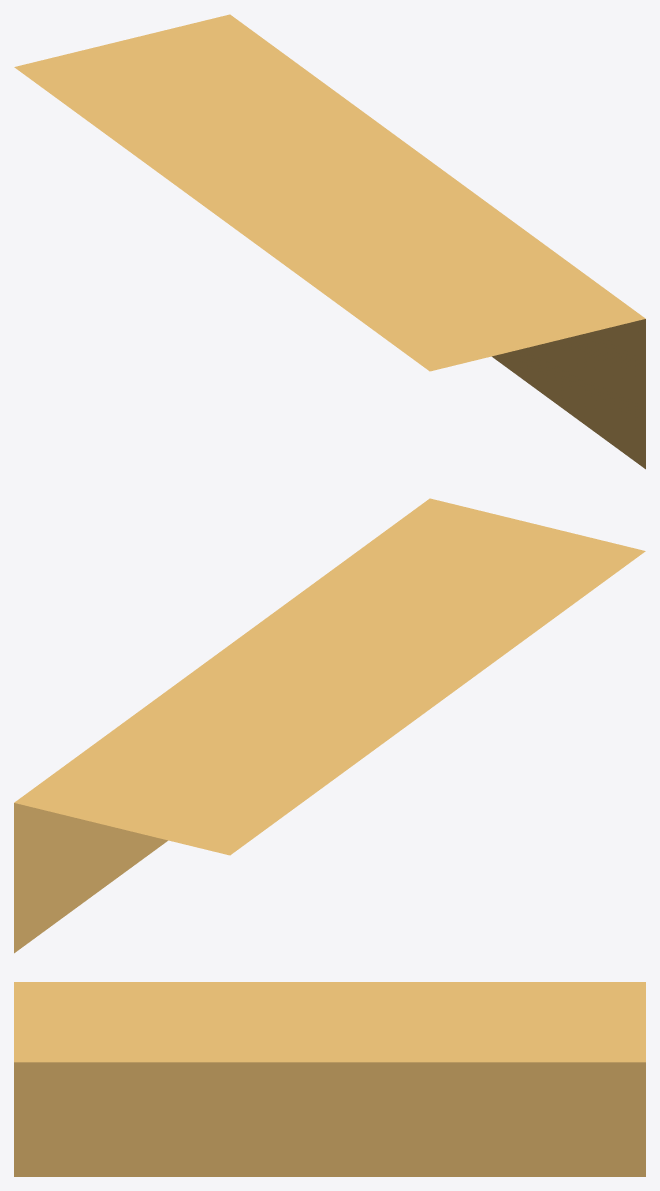
3 views of the same model, one above another, from view 1: azimuth 30°, elevation 25°; view 2: azimuth 150°, elevation 25°; view 3: azimuth 270°, elevation 25° (orthographic). The views are drawn at different scales.
Bounding box in the file's own units: 0.3 × 0.2 × 1.
